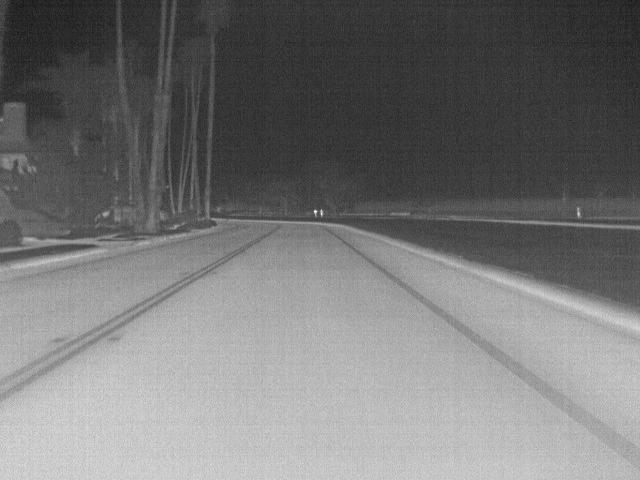person: (575, 206, 583, 220), (318, 206, 325, 218), (312, 206, 318, 216)
